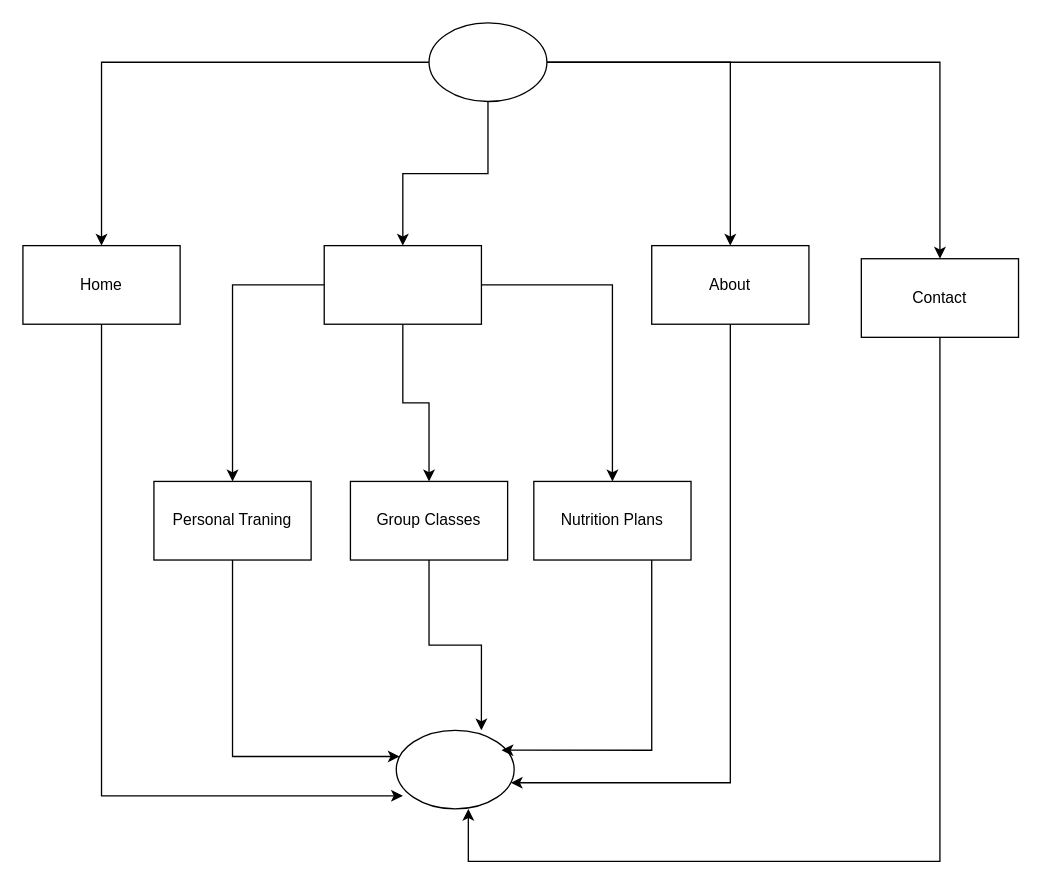
Image size: 1041x895. Some labels were removed from this diagram. Here are the shapes that lost their labels. From the top down, the box of each, then its label:
(428, 22, 547, 102): Start
(323, 244, 481, 324): Services
(395, 729, 514, 809): End
